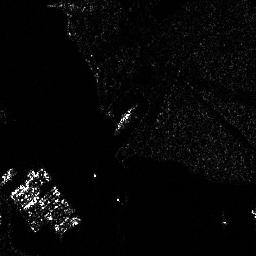ship: (116, 107, 136, 132)
